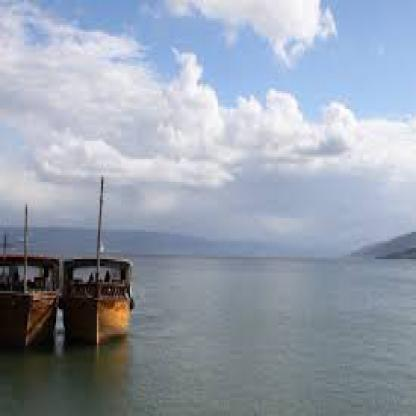fish-b: (59, 171, 147, 350), (0, 171, 61, 354)
